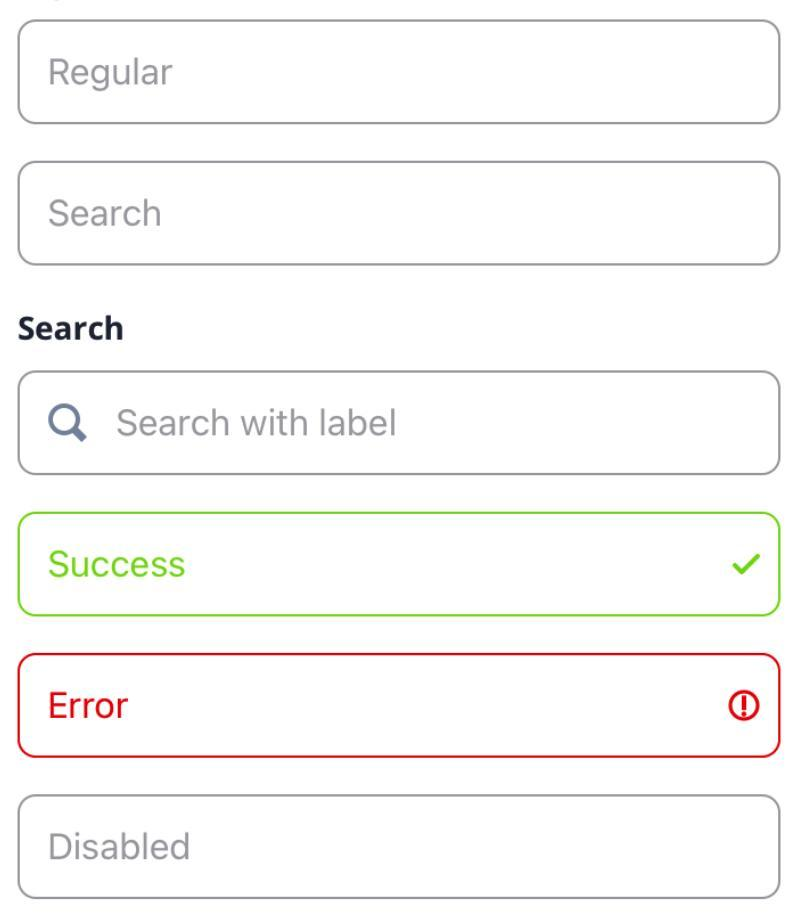input: (17, 367, 783, 479), (17, 511, 780, 620), (20, 162, 779, 271), (17, 19, 782, 126), (20, 653, 782, 760), (16, 797, 783, 900)
label: (19, 312, 133, 352)
